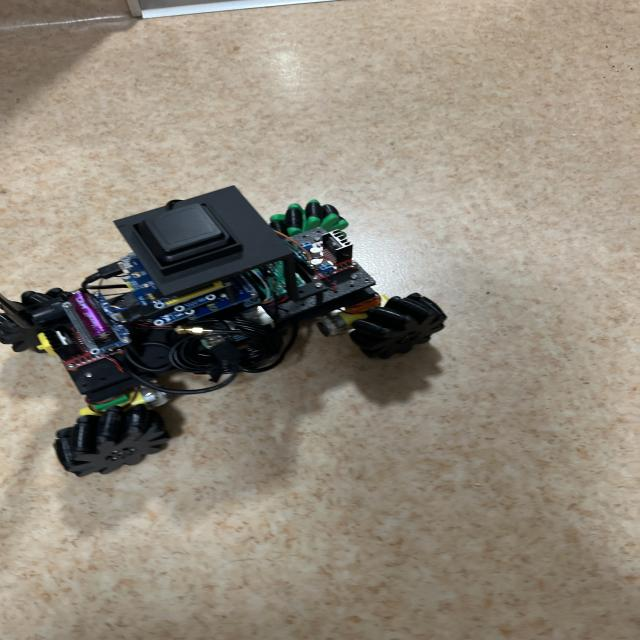robot: (0, 188, 445, 476)
